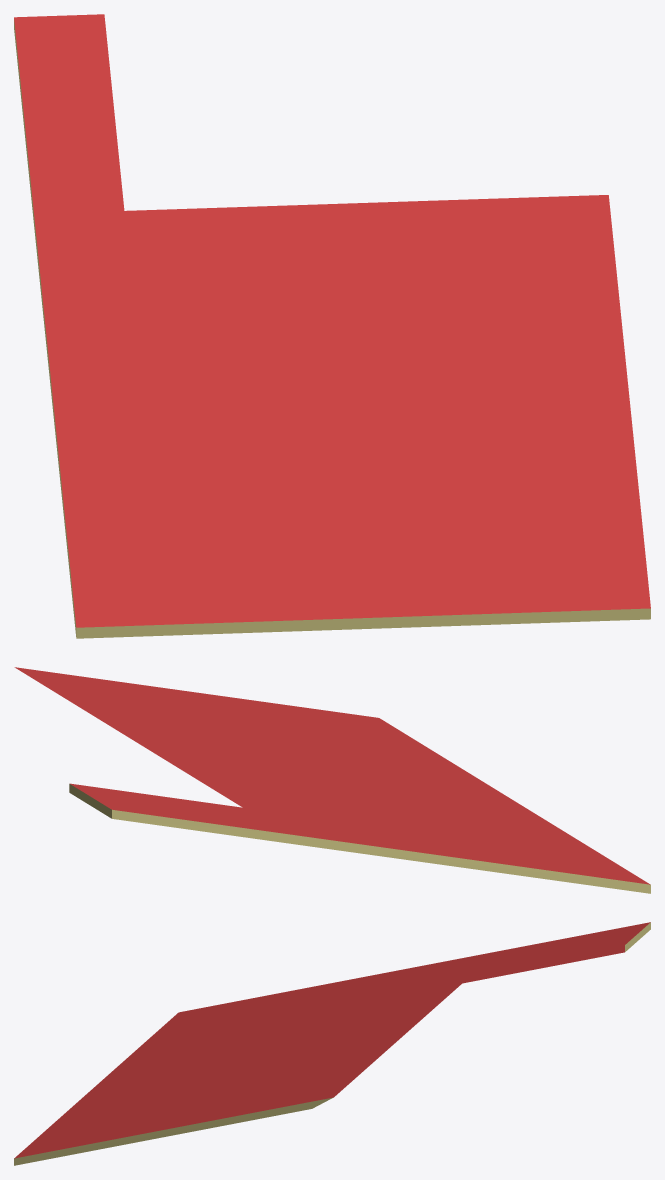
3 views of the same model, one above another, from view 1: azimuth 30°, elevation 25°; view 2: azimuth 150°, elevation 25°; view 3: azimuth 270°, elevation 25° (orthographic). The views are drawn at different scales.
Size of the model in its own units: 6.2 by 7.92 by 2.64.
